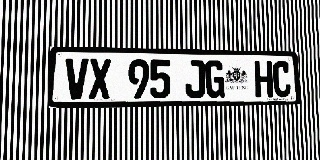5: (150, 59, 171, 99)
9: (128, 59, 149, 99)
C: (273, 61, 291, 97)
G: (205, 60, 225, 98)
H: (254, 61, 273, 97)
J: (185, 60, 205, 98)
V: (65, 58, 88, 99)
X: (89, 58, 111, 99)
